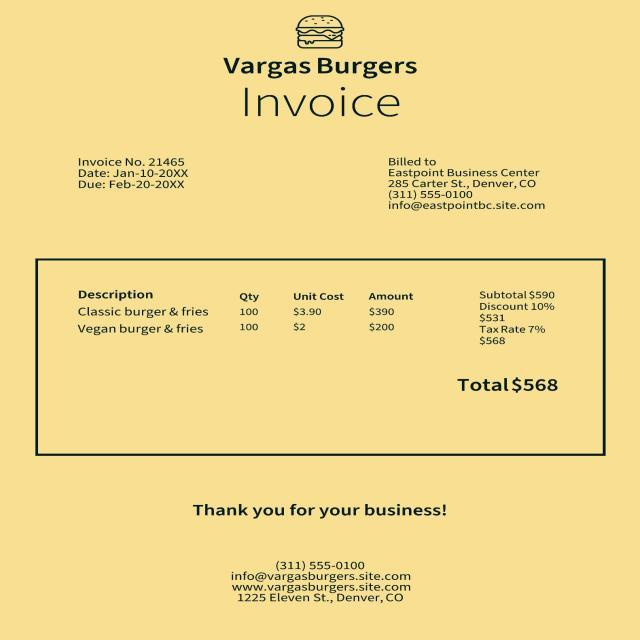ROI: (69, 275, 424, 346), (200, 41, 440, 122), (223, 552, 420, 618), (378, 152, 562, 220), (186, 494, 451, 524), (463, 278, 569, 352), (68, 147, 196, 199), (444, 372, 572, 398)
